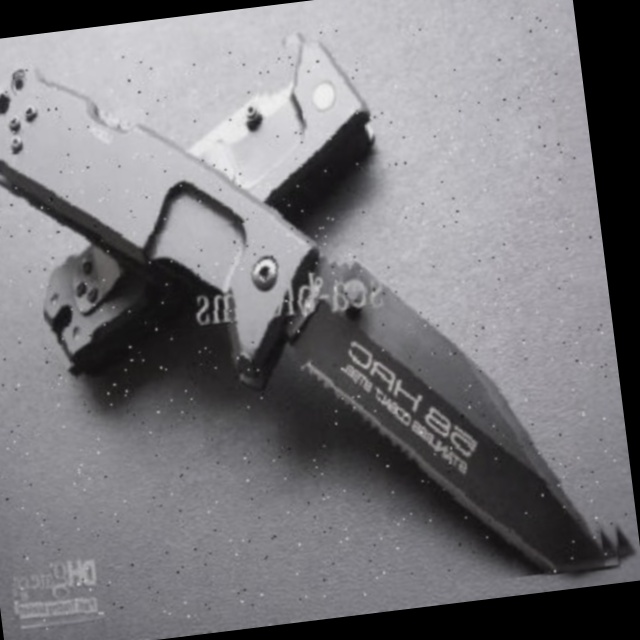Sharp-Object: (0, 3, 635, 637), (15, 28, 392, 384)
